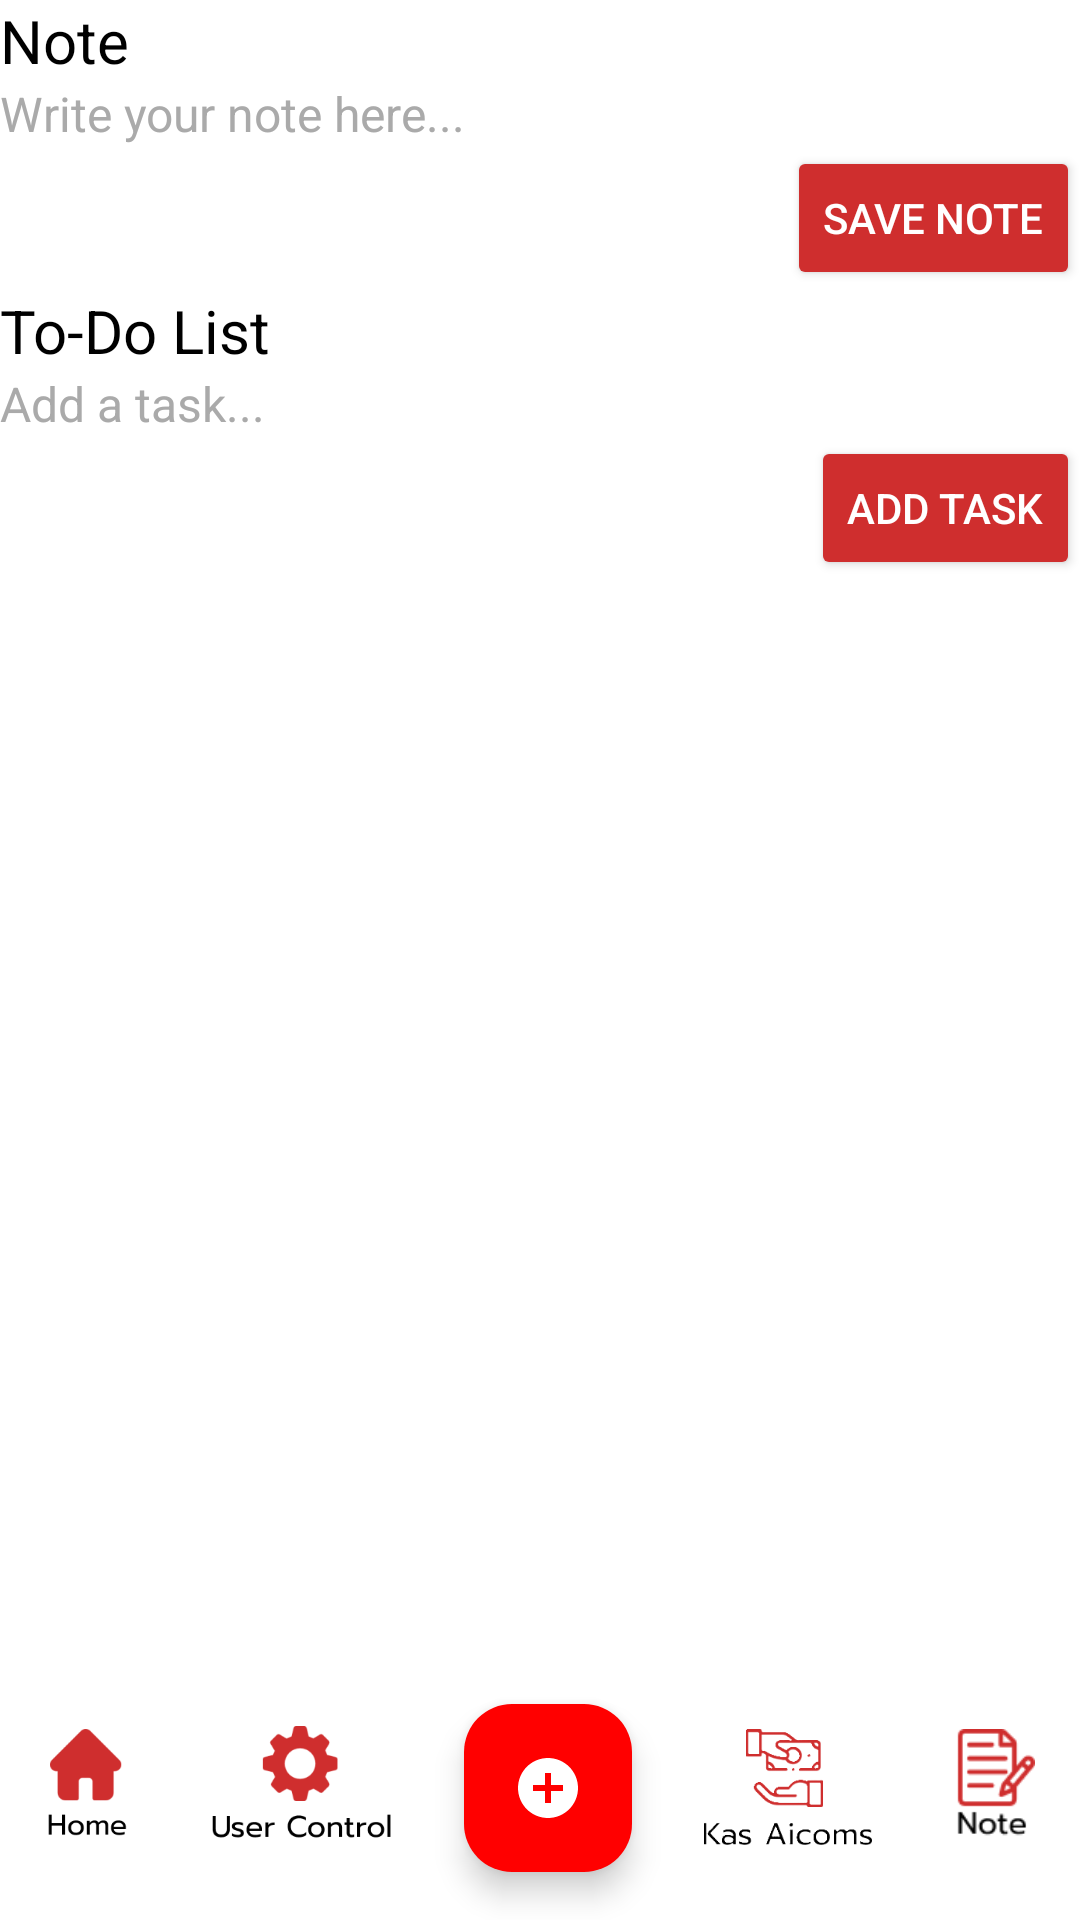

Icons on this 1080 x 1920 Android screen, each with its box as [left=x1, top=y1, right=x2, bottom=y2]:
add circle: [left=464, top=1704, right=632, bottom=1872]
